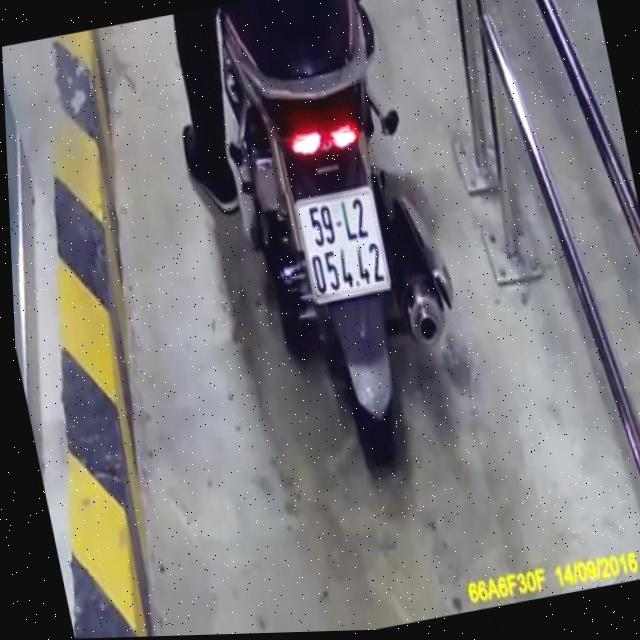motorcycle: (193, 0, 503, 507)
plate: (286, 179, 404, 308)
